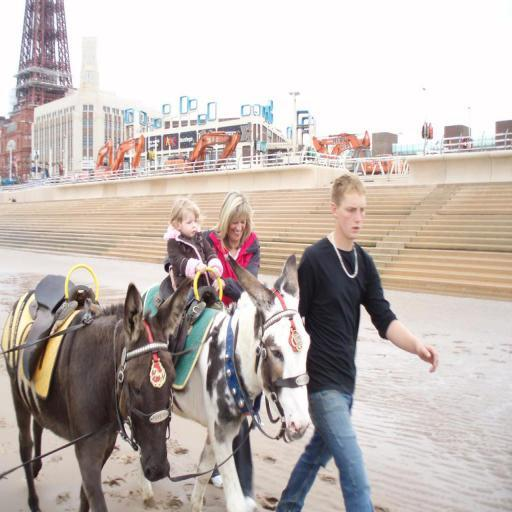Horse: (1, 276, 194, 512), (139, 254, 313, 512)
